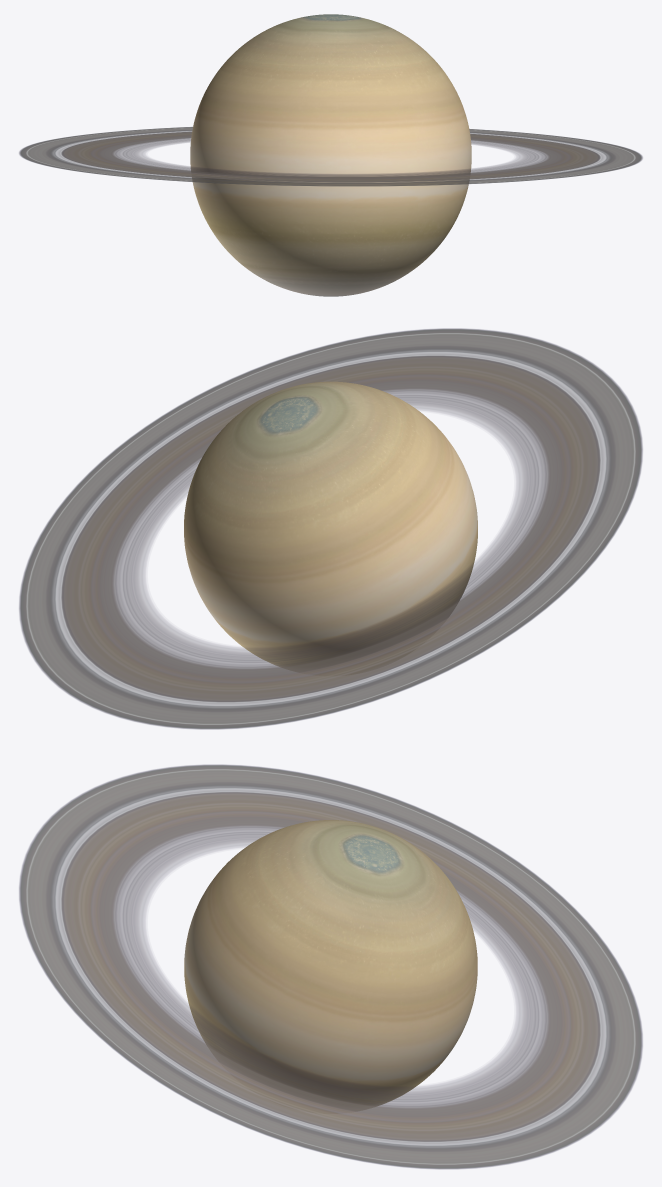
File: Saturn.glb
3 renders of one model, top to bottom at view 1: azimuth 30°, elevation 25°; view 2: azimuth 150°, elevation 25°; view 3: azimuth 270°, elevation 25°, orthographic. The views are drawn at different scales.
Parts seen in each view (by area): view 1: Saturn, Ring; view 2: Ring, Saturn; view 3: Ring, Saturn.
Part boxes in pixels (x1,y1,x2,y2): Saturn: (190, 14, 471, 296); Ring: (19, 127, 642, 186); Ring: (19, 328, 642, 729); Saturn: (184, 381, 477, 671); Ring: (19, 764, 642, 1169); Saturn: (184, 820, 477, 1110).
Size of the model in its own units: 4.42 by 2 by 4.3.
2 materials, 2 textured.
